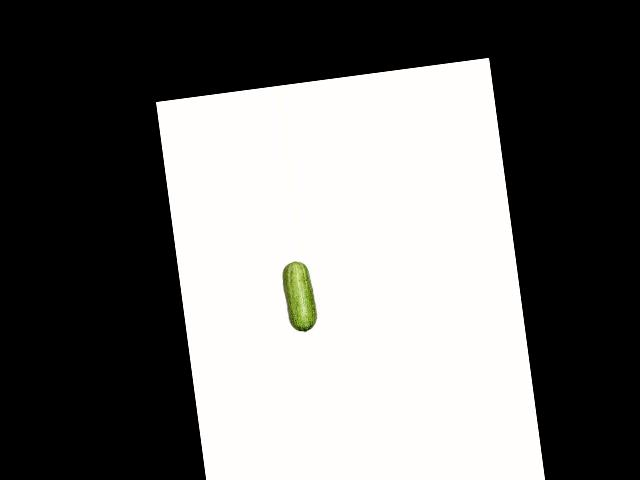cucumber: (280, 259, 318, 334)
